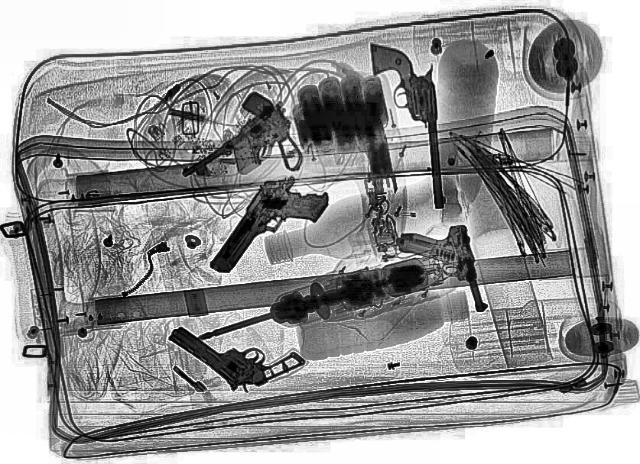Gun: (173, 103, 334, 211), (205, 170, 338, 286), (158, 299, 308, 401), (369, 39, 451, 211), (392, 224, 488, 318)
